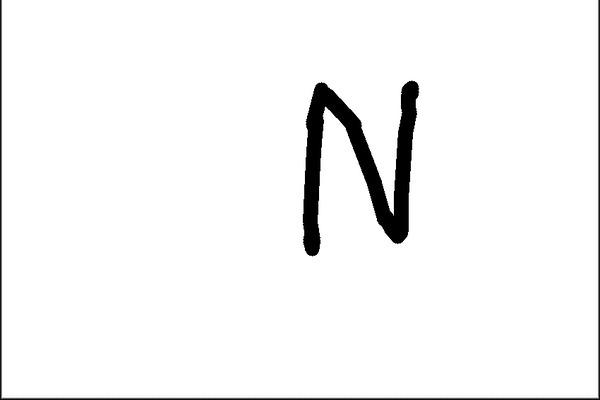N: (294, 72, 423, 258)
